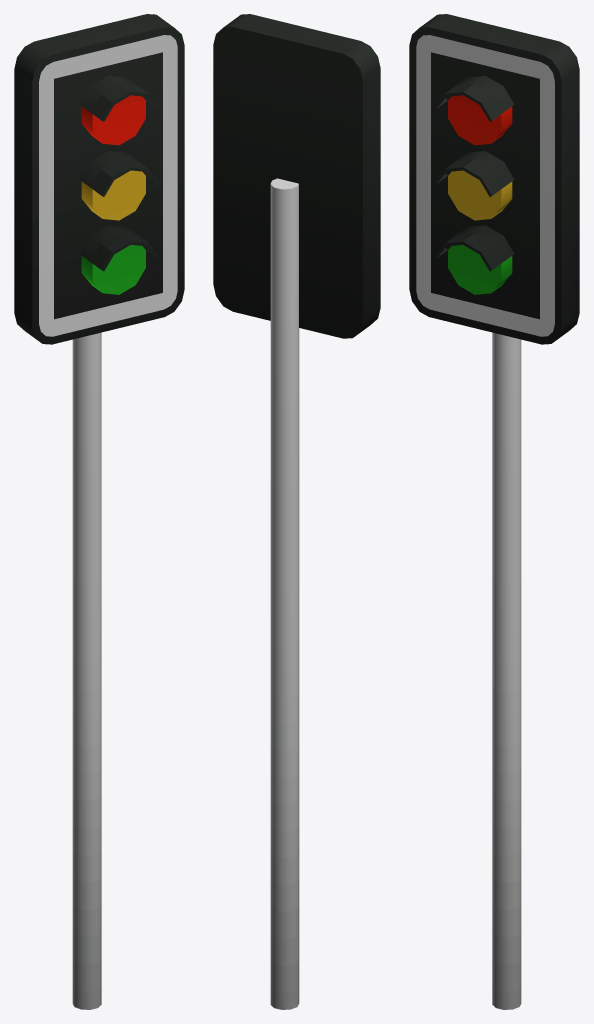
File: SM_Traffic_Light.fbx
3 views of the same model, side by side, from view 1: azimuth 30°, elevation 25°; view 2: azimuth 150°, elevation 25°; view 3: azimuth 330°, elevation 25° (orthographic).
Parts seen in each view (by area): view 1: Traffic_Light; view 2: Traffic_Light; view 3: Traffic_Light.
Boxes of the visible parts, x1,y1,x2,y2 form: Traffic_Light: (14, 14, 184, 1009); Traffic_Light: (213, 14, 380, 1009); Traffic_Light: (409, 14, 579, 1009).
Size of the model in its own units: 122 by 749 by 70.28.
1 material, 1 textured.
